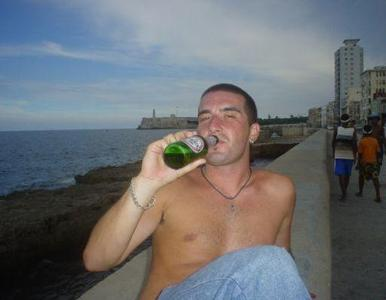person: (83, 82, 314, 300)
